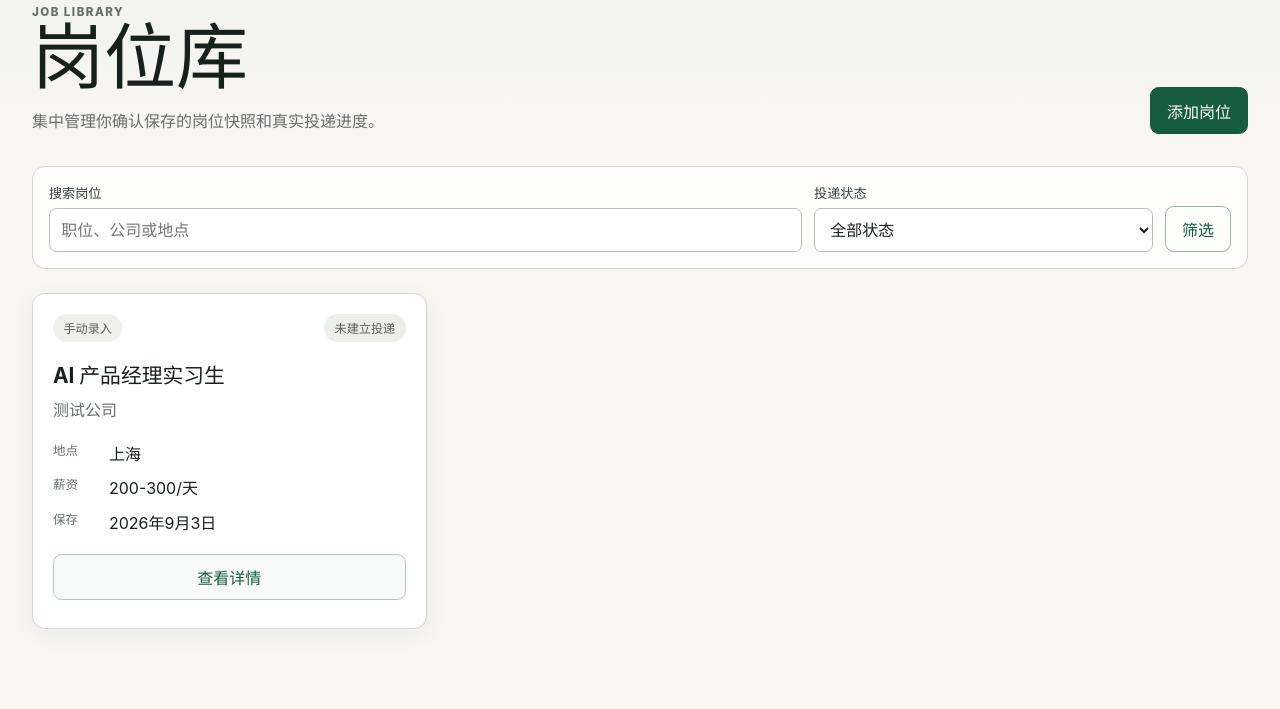
Test: App › hides the legacy Evidence Map while keeping Copilot available on Job detail
(page scrolled)
Click the button "查看详情" at (229, 577), box x1=53 y1=554 x2=406 y2=600
(page scrolled)
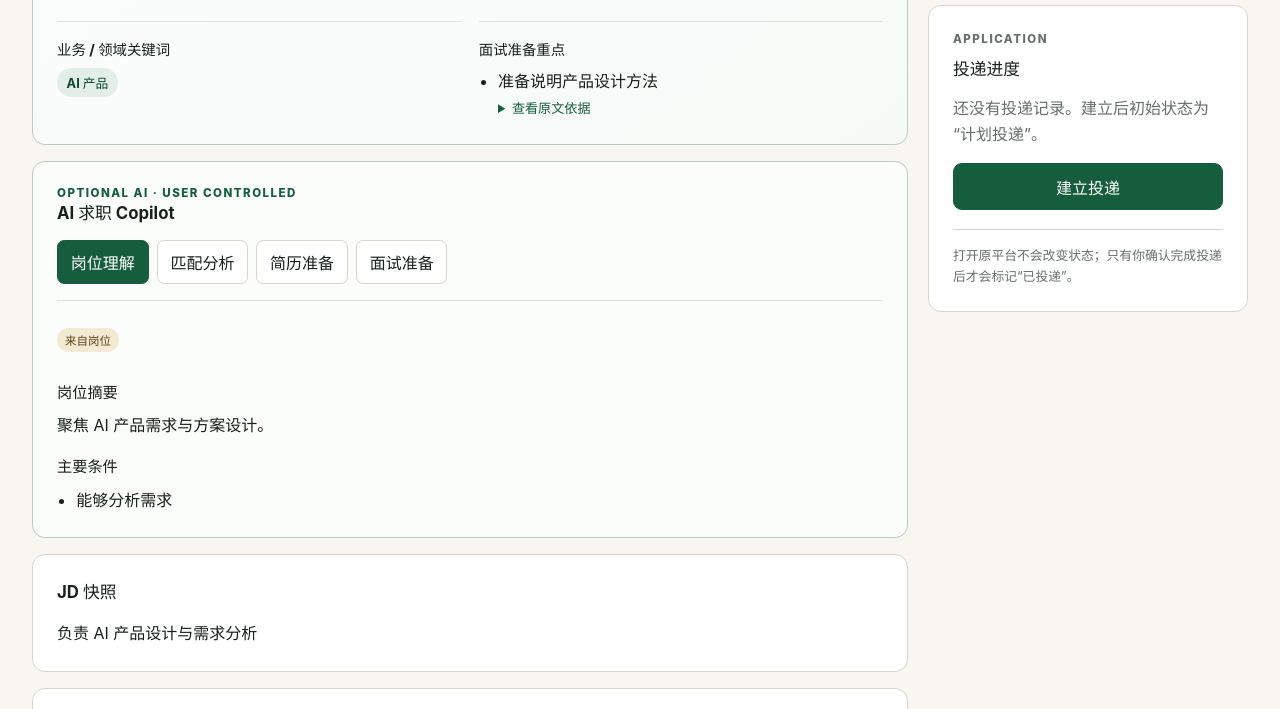
Expected: the element "AI 求职 Copilot" is shown, x1=32 y1=161 x2=908 y2=538
